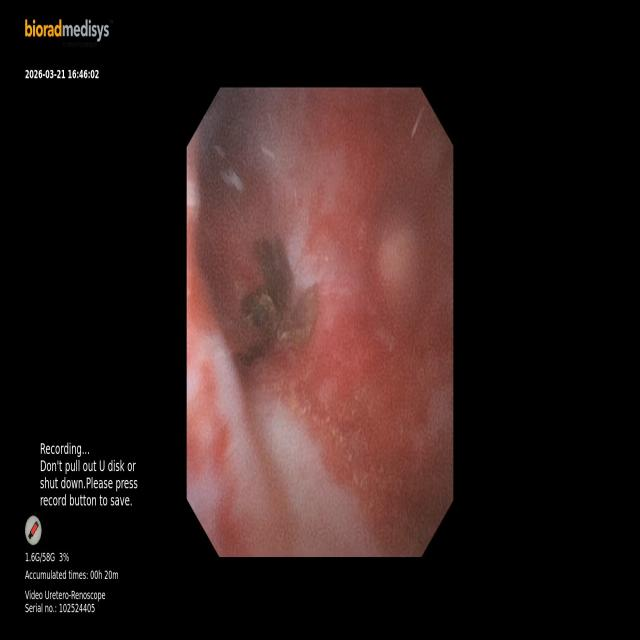stone-new: (254, 237, 293, 312), (278, 284, 318, 345), (242, 287, 279, 342)
